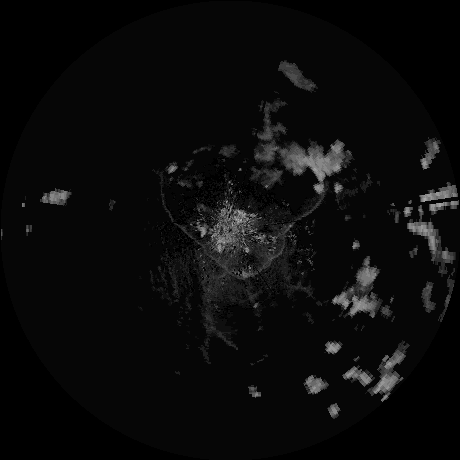frontgust: (161, 192, 242, 278), (244, 195, 325, 279)
